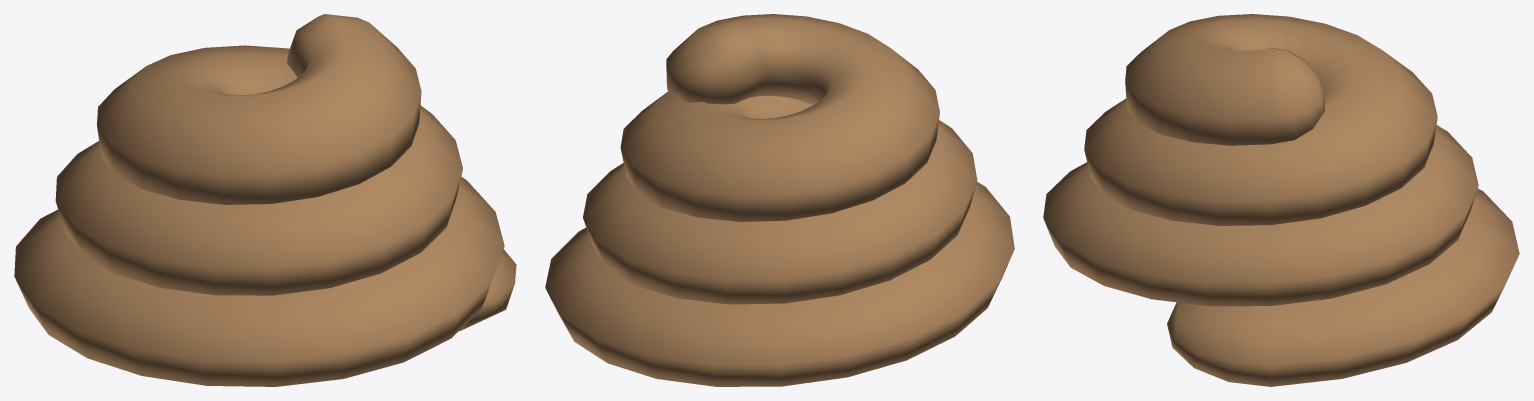
The model's file is Poops.fbx.
3 renders of one model, left to right at view 1: azimuth 30°, elevation 25°; view 2: azimuth 150°, elevation 25°; view 3: azimuth 270°, elevation 25°, orthographic. The views are drawn at different scales.
Visible parts, largest first — view 1: pHelix1; view 2: pHelix1; view 3: pHelix1.
Part boxes in pixels (bbox=[...]): pHelix1: bbox=[14, 14, 516, 386]; pHelix1: bbox=[545, 14, 1014, 386]; pHelix1: bbox=[1043, 14, 1519, 386].
Bounding box in the file's own units: 0.0416 × 0.028 × 0.0427.
